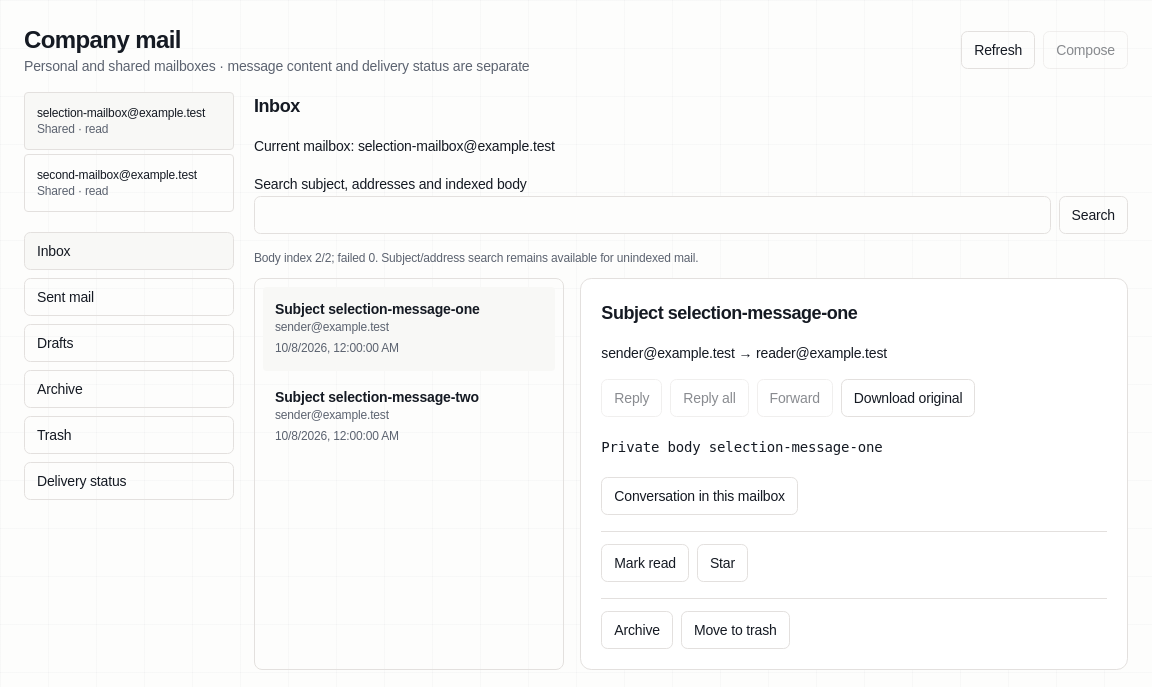
Test case: received selection after a confirmed list change › retires a previously listed inbox selection after a successful refresh removes it
The image size is (1152, 687).
Click the button "Refresh".
click(998, 50)  # box x1=961 y1=31 x2=1035 y2=69
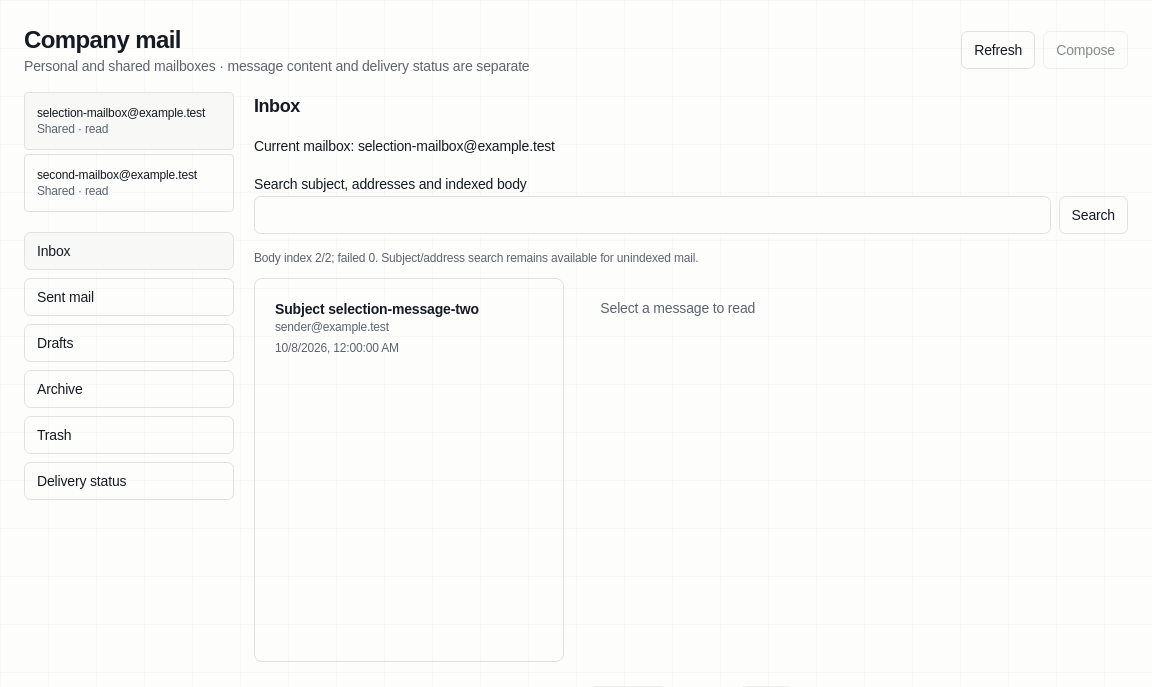
Result: the button "Download original" is gone
Result: the text "Select a message to read" is shown at x1=600 y1=300 x2=755 y2=316
